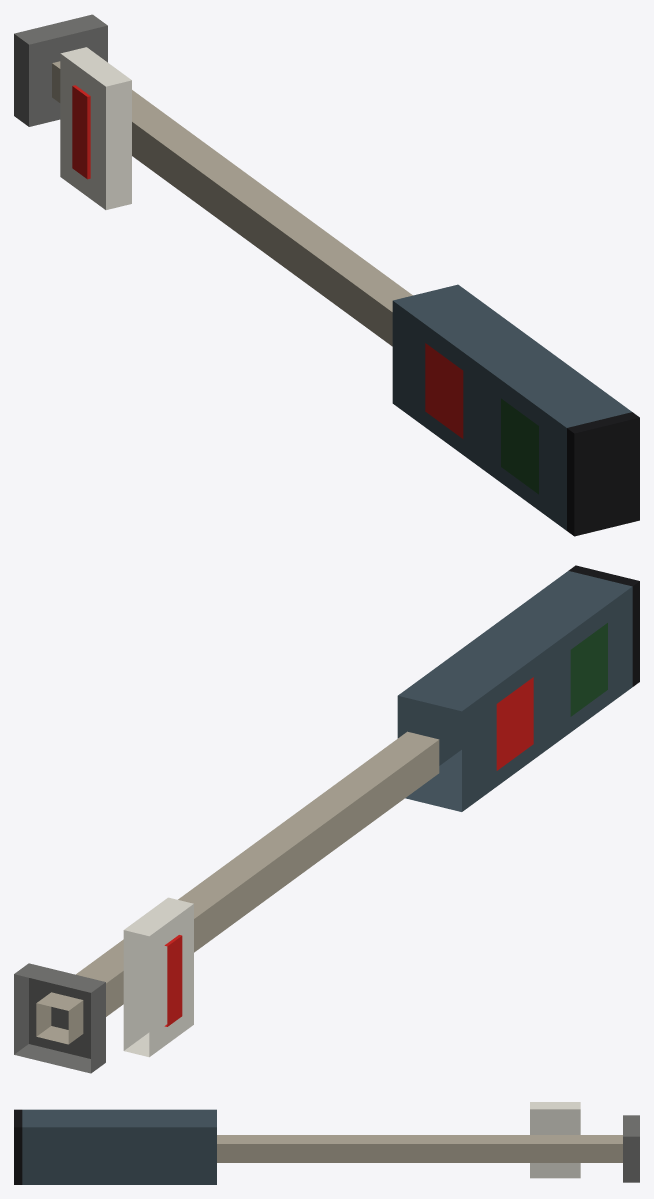
Rendered from red.glb.
3 renders of one model, top to bottom at view 1: azimuth 30°, elevation 25°; view 2: azimuth 150°, elevation 25°; view 3: azimuth 270°, elevation 25°, orthographic. The views are drawn at different scales.
Parts seen in each view (by area): view 1: signal_electric_path_oneway_red; view 2: signal_electric_path_oneway_red; view 3: signal_electric_path_oneway_red.
Part boxes in pixels (left/top/right/bottom): signal_electric_path_oneway_red: left=14, top=14, right=639, bottom=536; signal_electric_path_oneway_red: left=14, top=565, right=639, bottom=1073; signal_electric_path_oneway_red: left=14, top=1102, right=639, bottom=1184.
Size of the model in its own units: 1.35 by 1.8 by 14.8.
